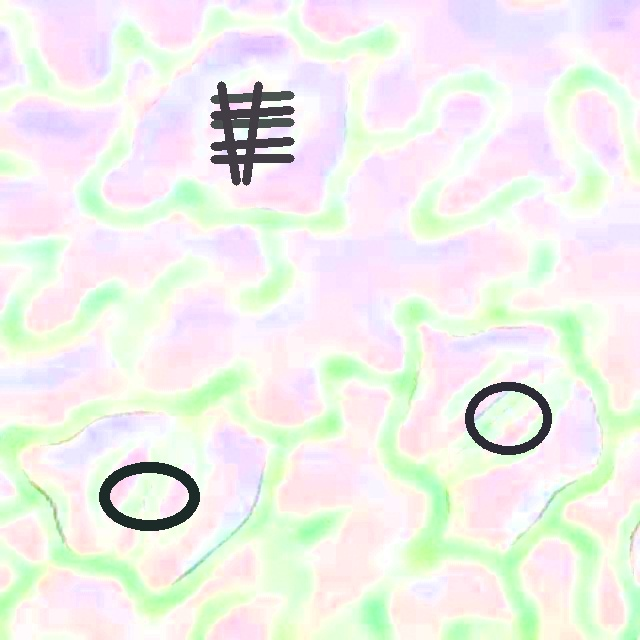open: (210, 81, 294, 185), (99, 462, 199, 530), (464, 381, 552, 455)
